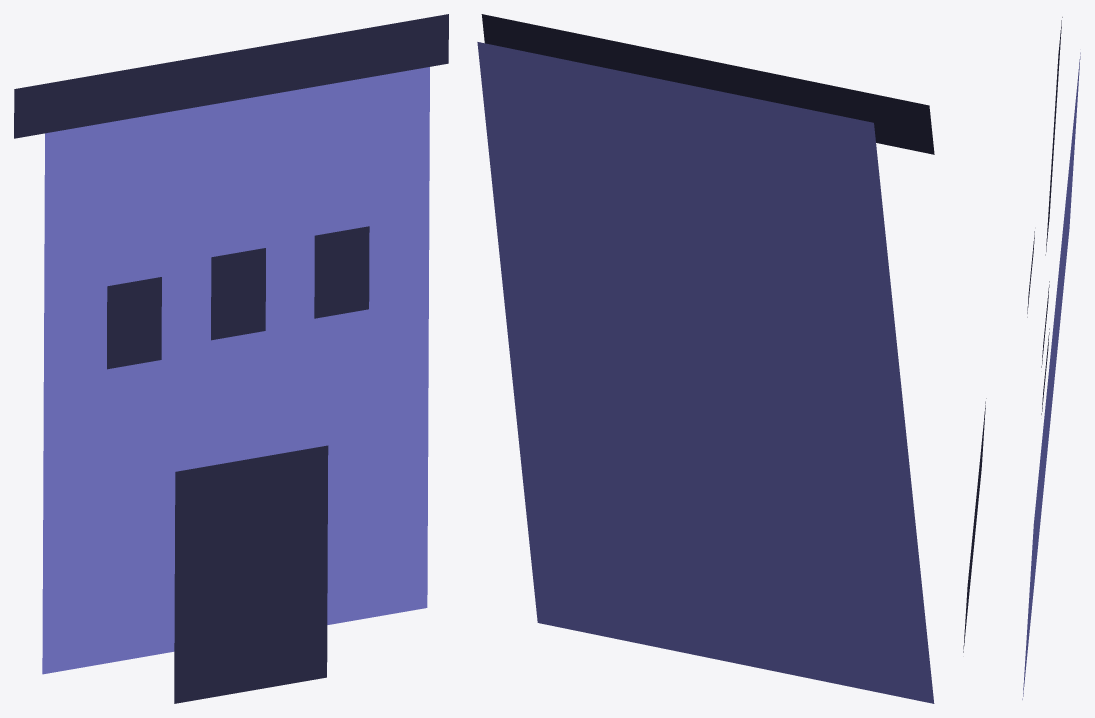
Rendered from building1.glb.
The picture shows the model from 3 angles, left to right: view 1: azimuth 30°, elevation 25°; view 2: azimuth 150°, elevation 25°; view 3: azimuth 270°, elevation 25°; orthographic projection. The views are drawn at different scales.
Visible parts, largest first — view 1: building 1; view 2: building 1; view 3: building 1.
Part boxes in pixels (x1,y1,x2,y2): building 1: [14, 14, 448, 703]; building 1: [477, 14, 934, 703]; building 1: [963, 17, 1080, 699].
Size of the model in its own units: 24.42 by 33.07 by 6.62.
